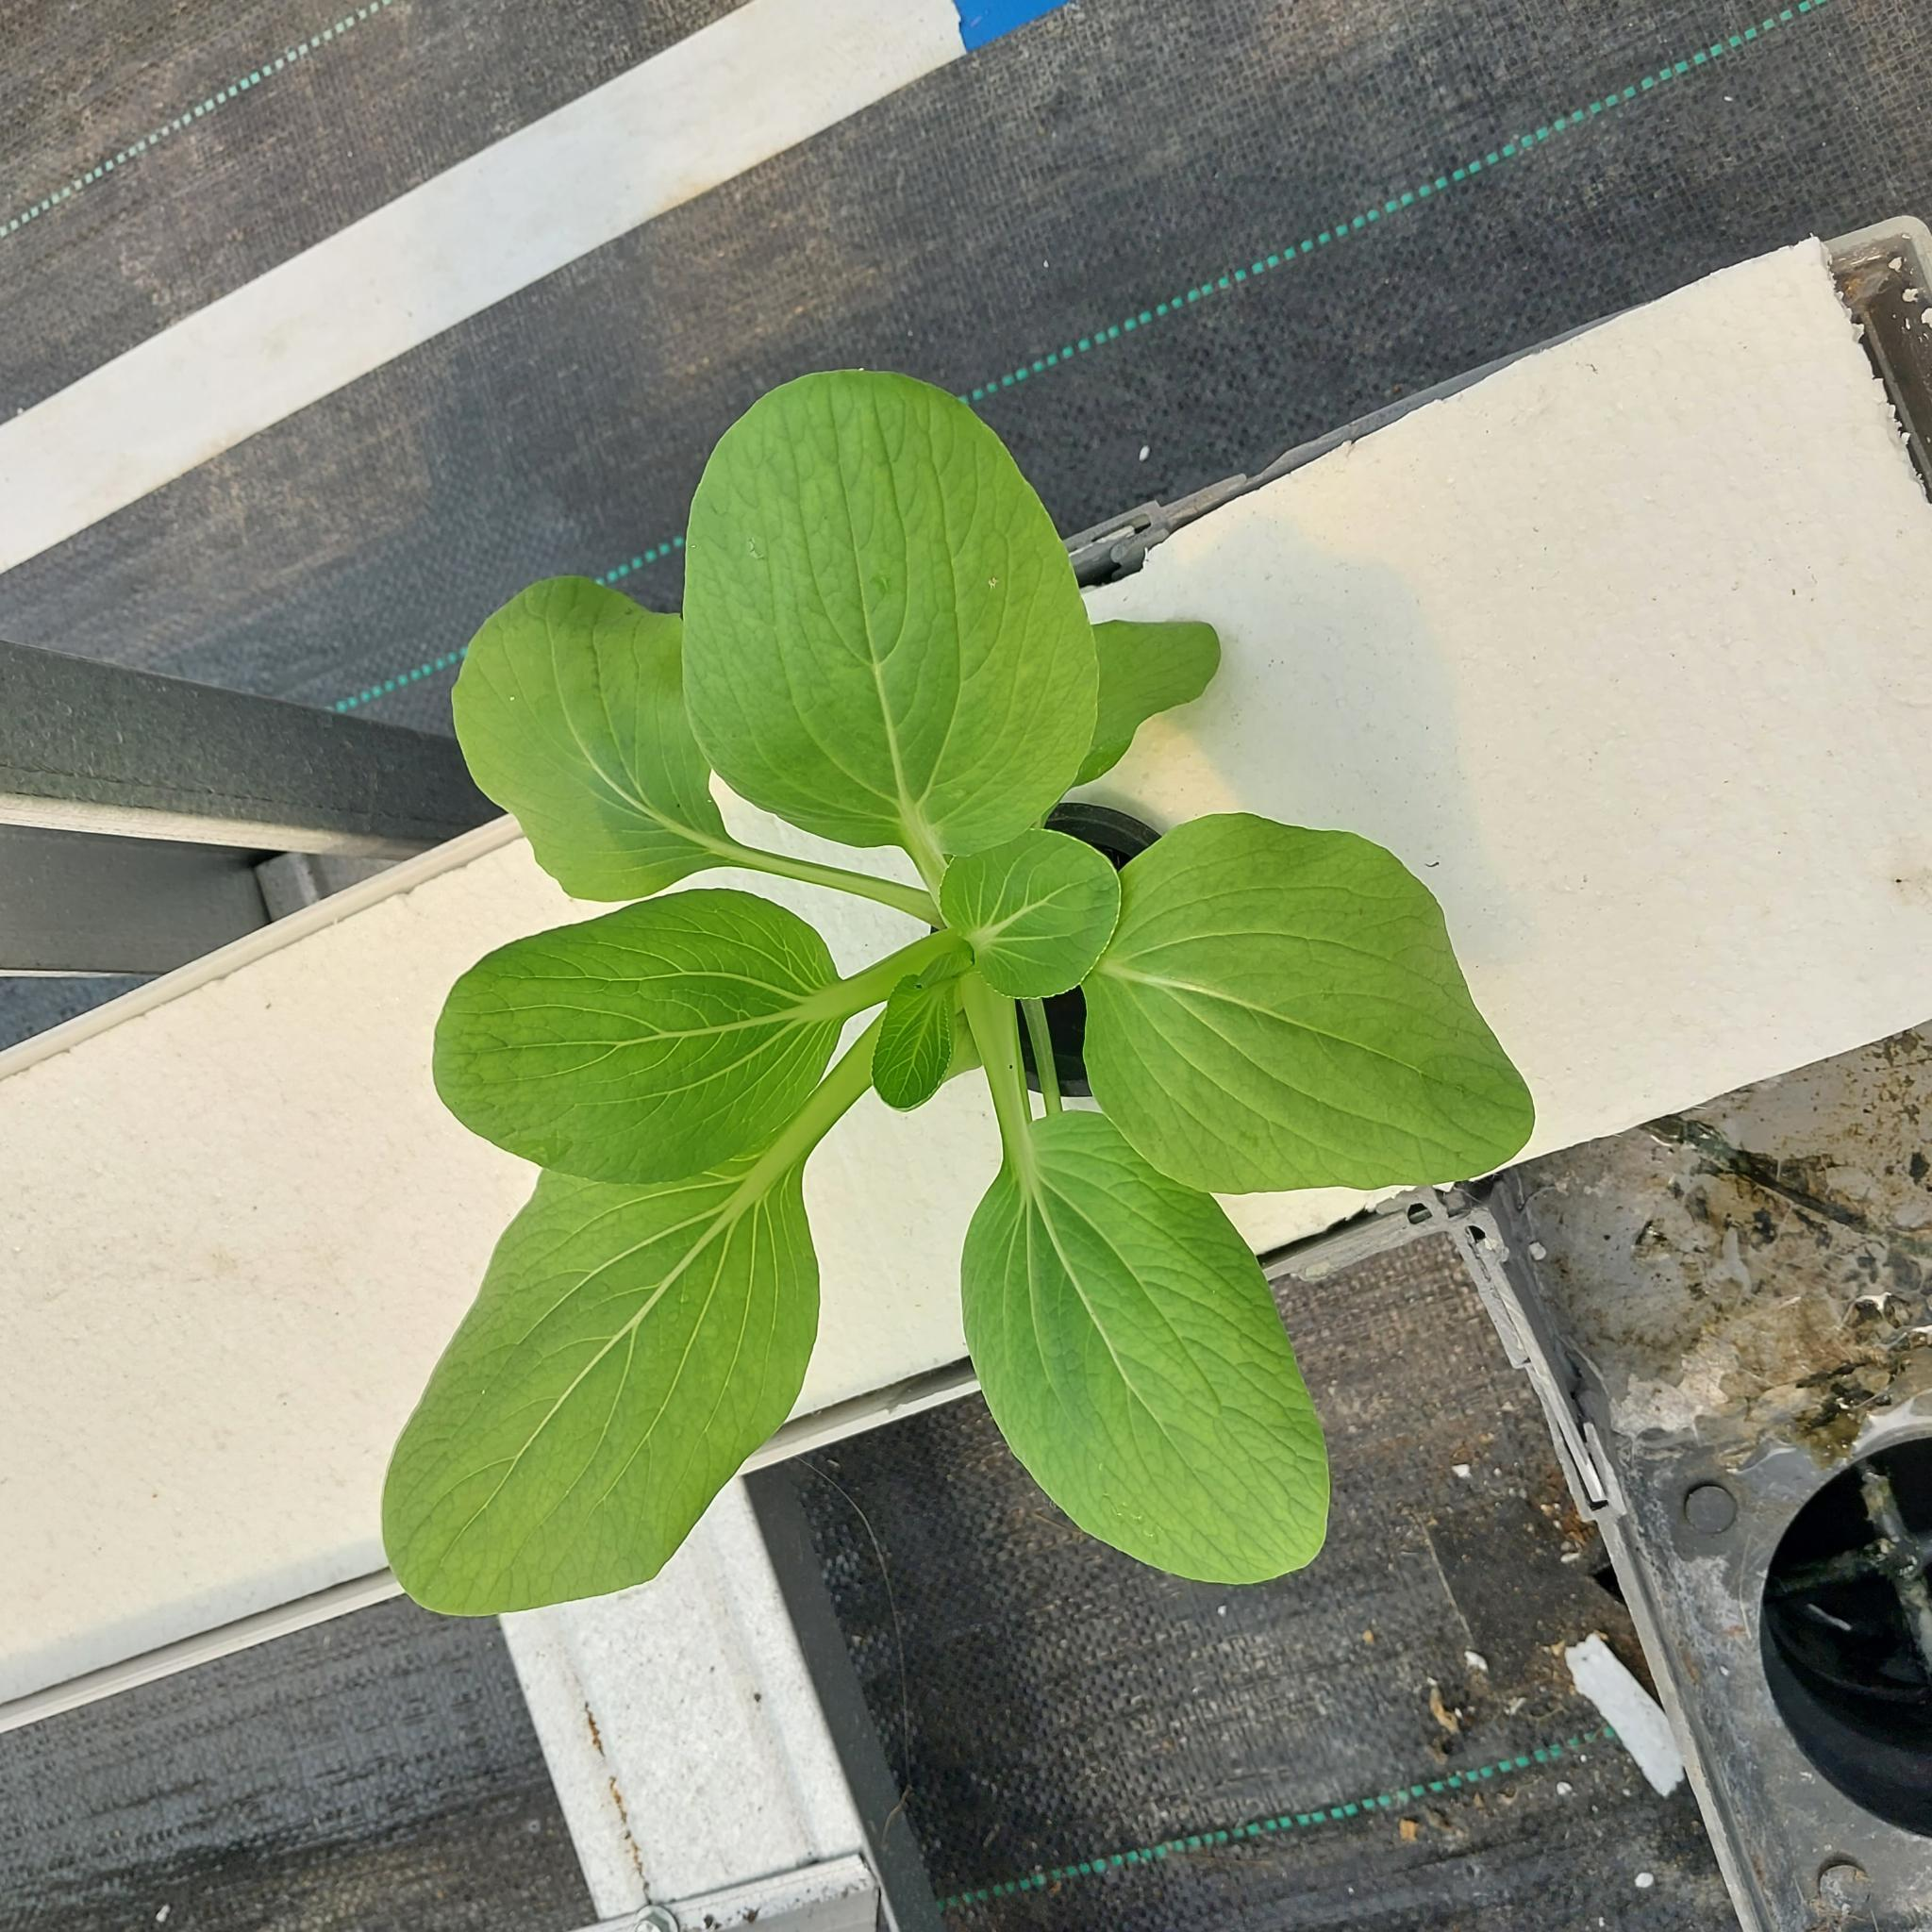Healthy-Pechay: (377, 1088, 847, 1626), (685, 364, 1074, 870), (1083, 824, 1532, 1184), (996, 1122, 1323, 1592), (426, 893, 874, 1185), (446, 577, 755, 908), (706, 837, 939, 931), (642, 971, 913, 1049)
